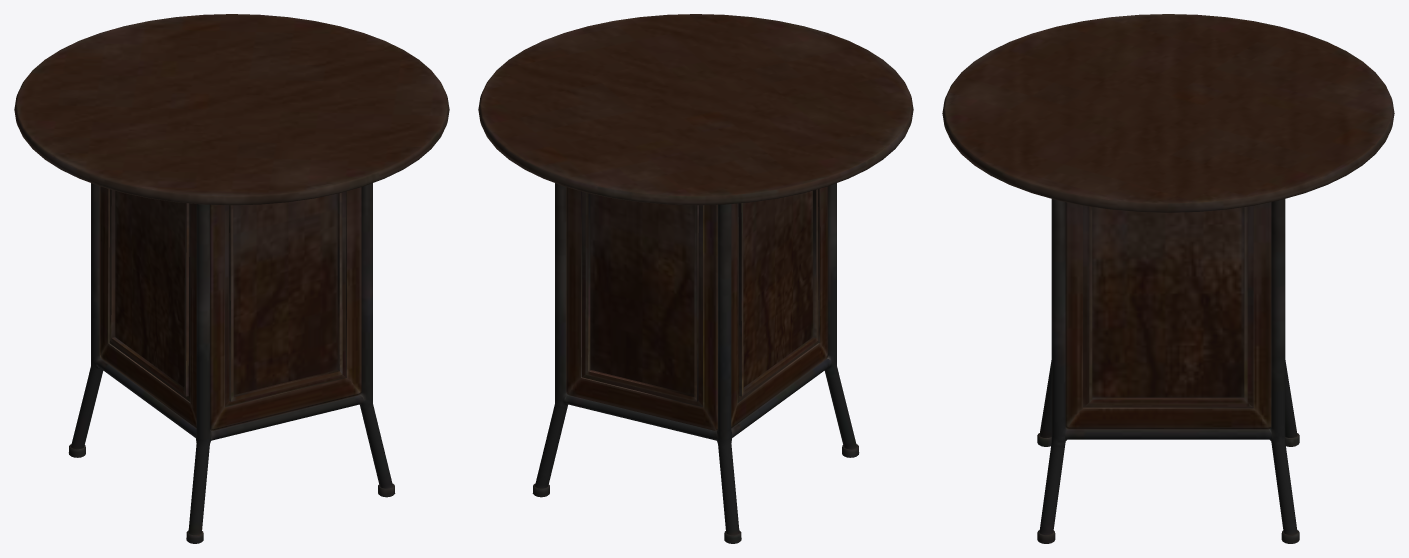
File: bistro_table.glb
The picture shows the model from 3 angles, left to right: view 1: azimuth 30°, elevation 25°; view 2: azimuth 150°, elevation 25°; view 3: azimuth 270°, elevation 25°; orthographic projection. The views are drawn at different scales.
Parts seen in each view (by area): view 1: bistro_table; view 2: bistro_table; view 3: bistro_table.
Boxes of the visible parts, x1=… form: bistro_table: x1=14, y1=14, x2=449, y2=543; bistro_table: x1=478, y1=14, x2=913, y2=543; bistro_table: x1=942, y1=14, x2=1394, y2=543.
Size of the model in its own units: 0.7962 by 0.746 by 0.7962.
Materials: 1 (1 with a texture image).
